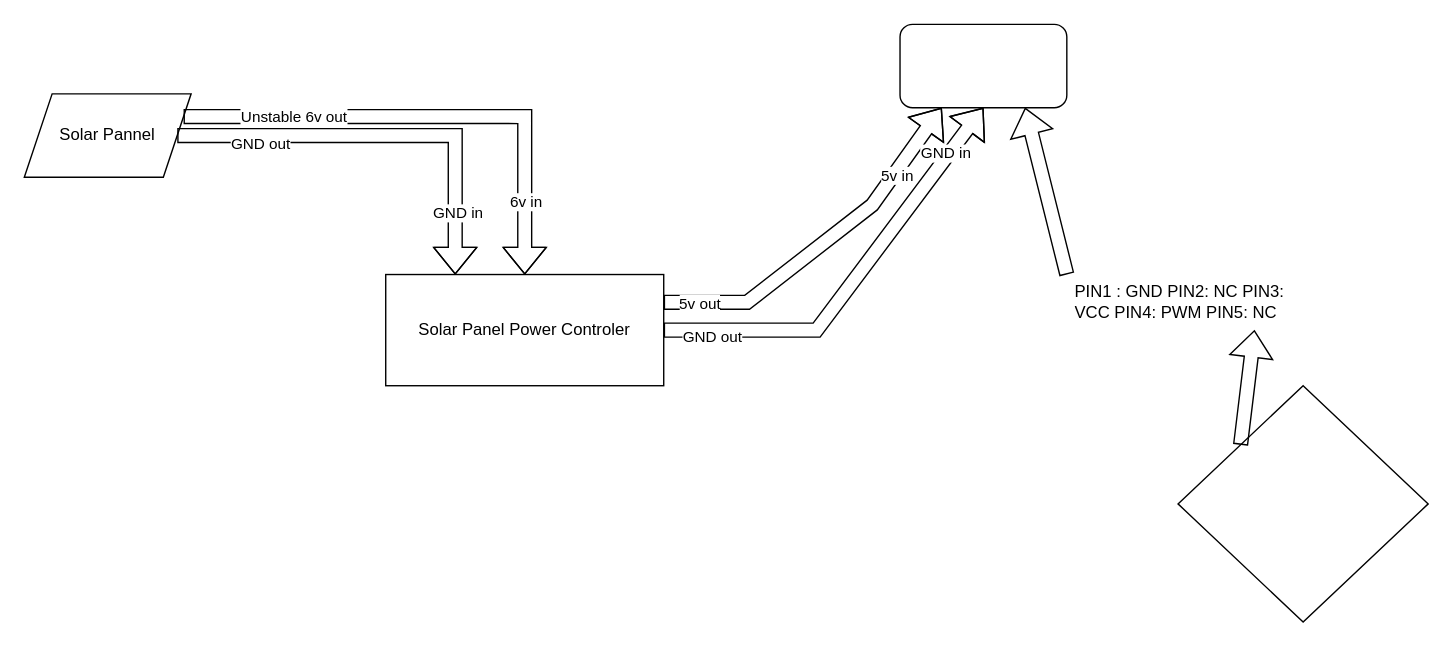
Some shapes in this 1453 by 646 pixel diagram are drawn without their labels. Each missing label, with the centre of its shape:
"PCB" belongs at point 983,65.
"ZPH04B Particles Sensor" belongs at point 1302,503.
